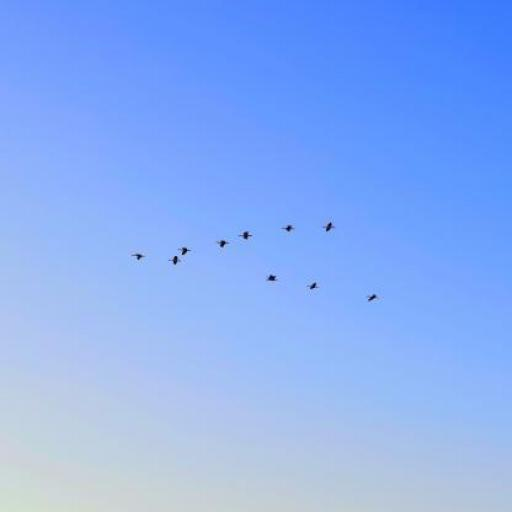bird: (238, 231, 253, 240), (168, 255, 181, 265), (322, 221, 335, 231), (306, 282, 319, 290), (179, 246, 192, 254), (281, 225, 295, 232), (132, 254, 146, 260), (266, 275, 279, 281), (217, 240, 228, 247), (366, 295, 377, 301)
